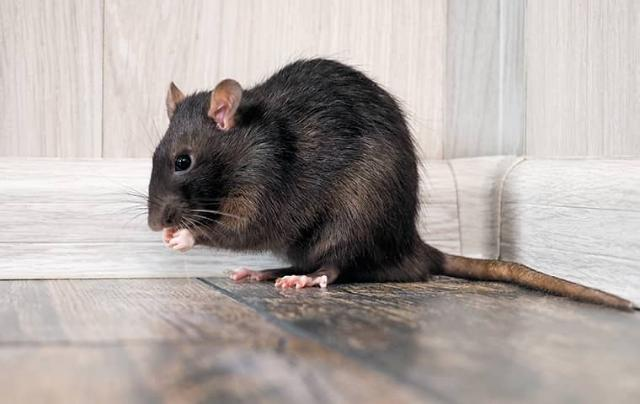rat: (140, 52, 454, 290)
